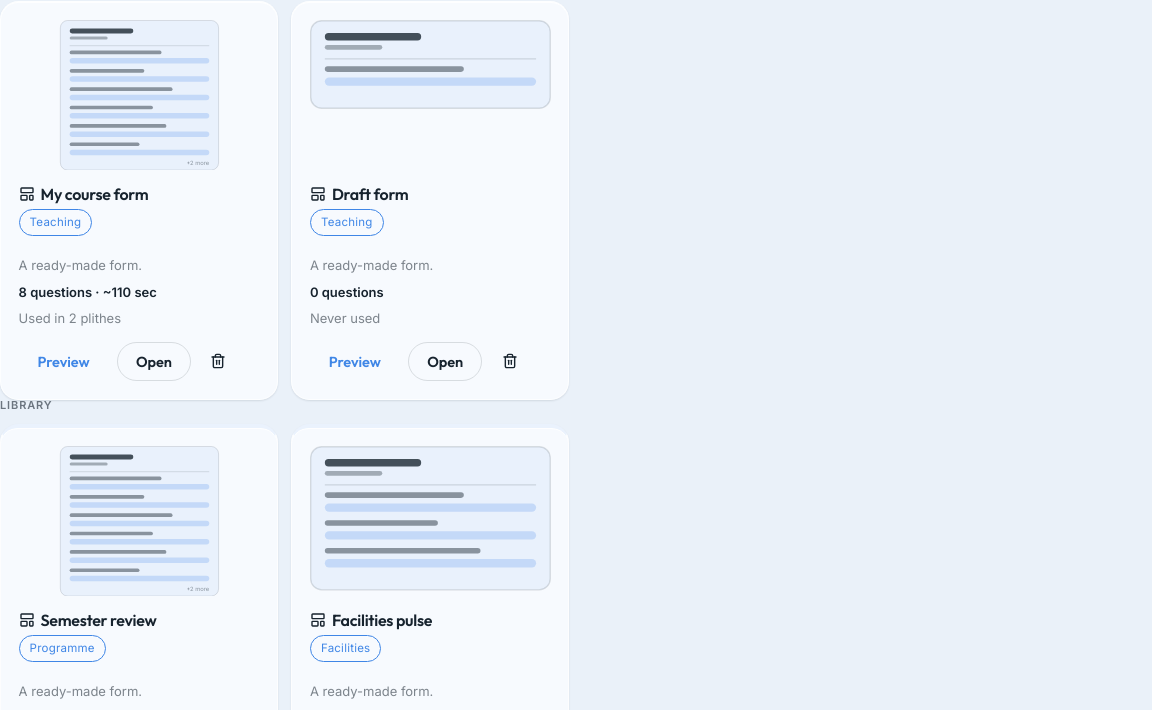
Test: delete states its consequence, and refuses when the server would › confirms a real deletion with a toast, which is success-only and never an alert
This screenshot has width=1152, height=710.
(page scrolled)
Click the button named "Delete Draft form" below "Never used" at (510, 360), box [491,342,529,380]
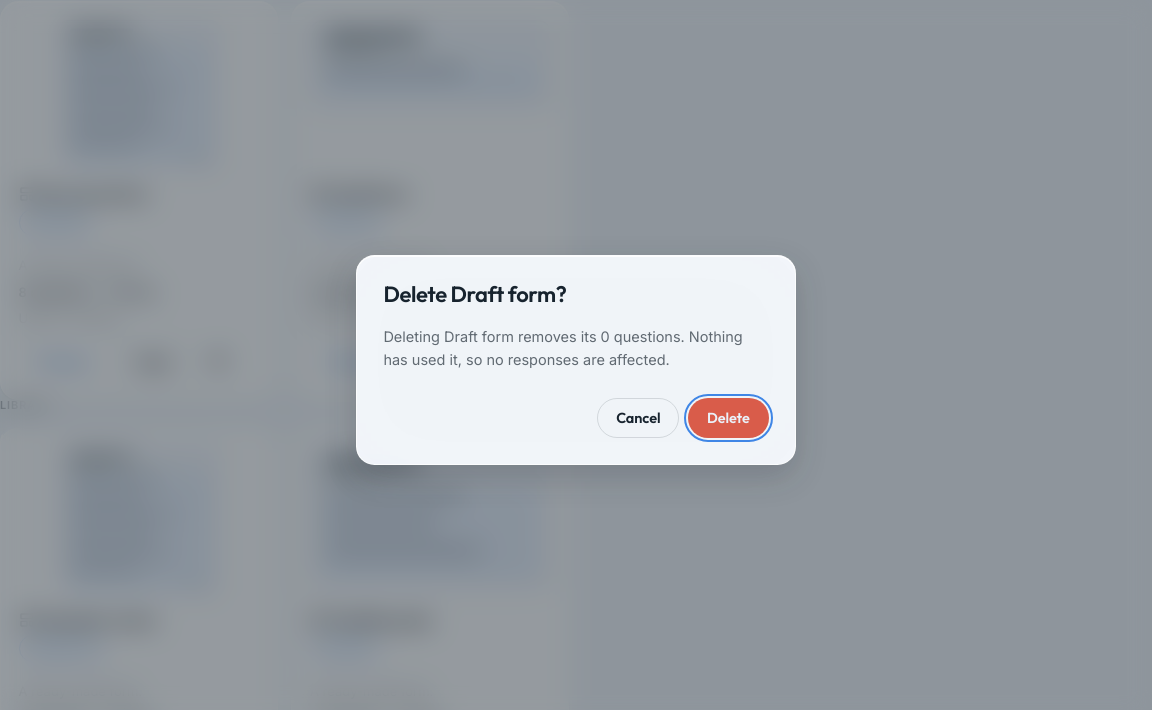
Click the button "Delete" at (728, 418), box [688,398,769,438]
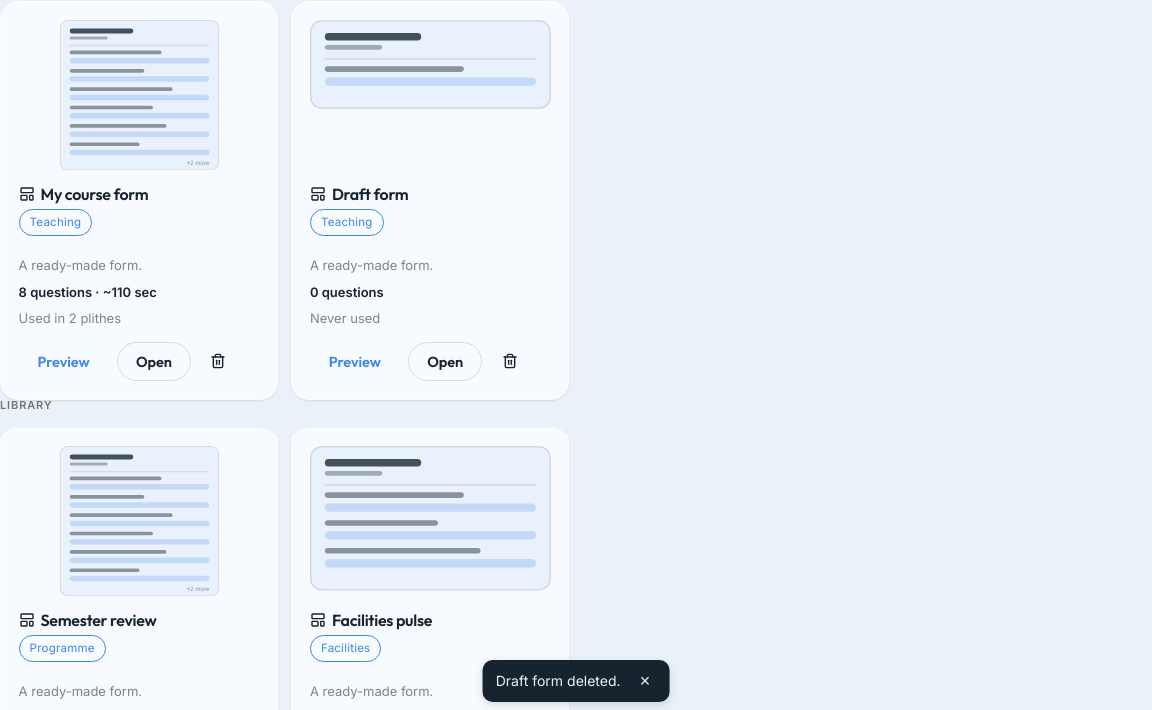
Expected: the message shows "Draft form deleted", [496,672,620,689]
